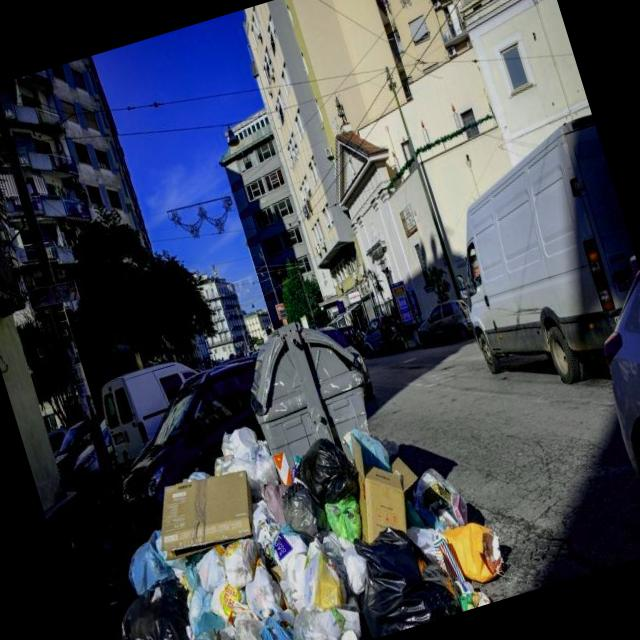high trash: (122, 426, 503, 640)
